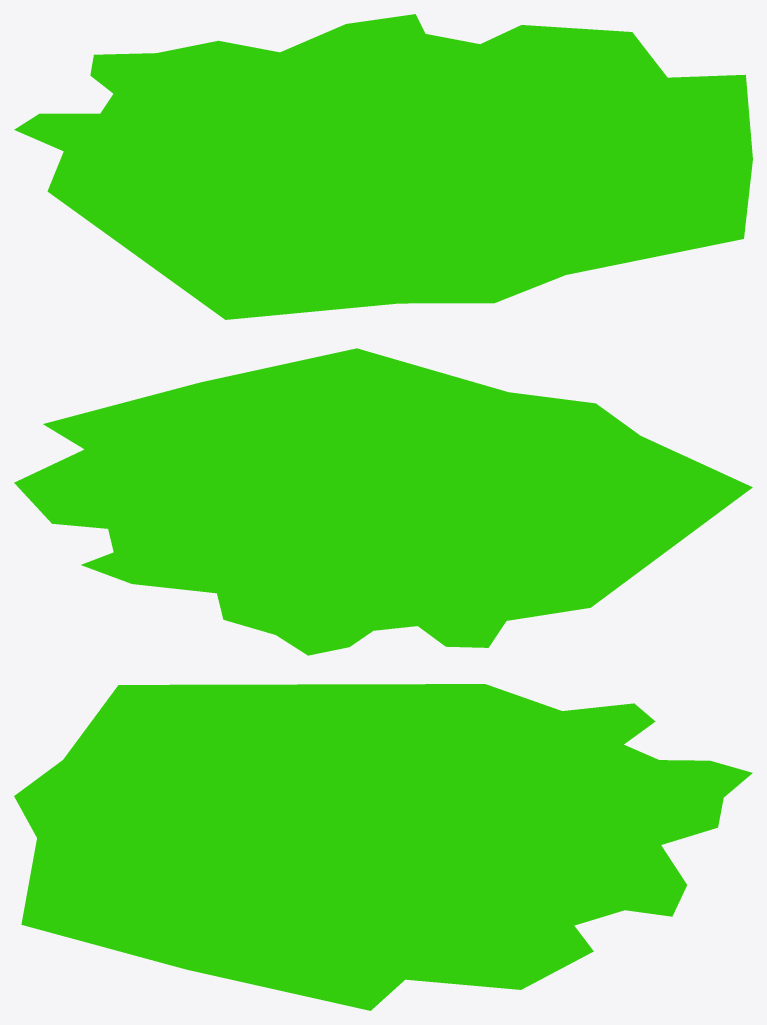
Rendered from IslandMoon_BuildArea_2.fbx.
3 renders of one model, top to bottom at view 1: azimuth 30°, elevation 25°; view 2: azimuth 150°, elevation 25°; view 3: azimuth 270°, elevation 25°, orthographic. The views are drawn at different scales.
Parts seen in each view (by area): view 1: BuildArea_2; view 2: BuildArea_2; view 3: BuildArea_2.
Boxes of the visible parts, bbox=[...] form: BuildArea_2: bbox=[14, 14, 752, 319]; BuildArea_2: bbox=[14, 348, 752, 655]; BuildArea_2: bbox=[14, 684, 752, 1010].
Bounding box in the file's own units: 2216 × 0.000422 × 2117.
